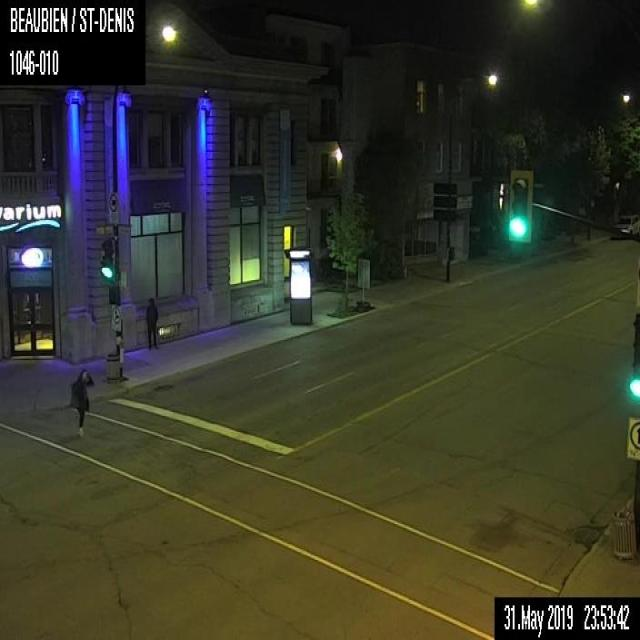pedestrian: (68, 368, 94, 436), (145, 297, 158, 349)
vehicle: (611, 213, 639, 238)
